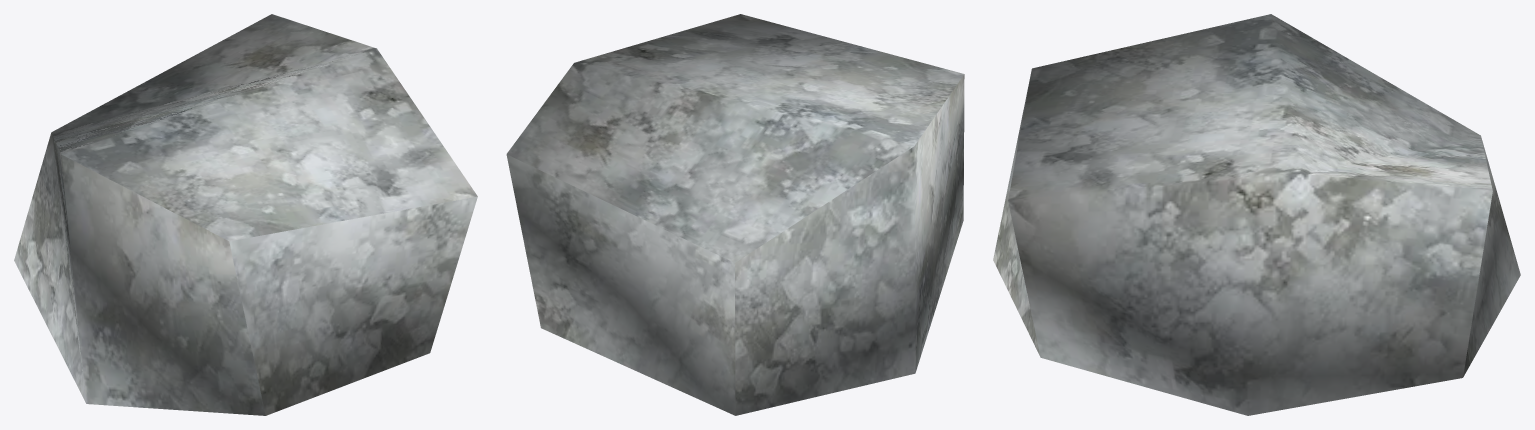
Rendered from KM_VOB_SALT_NUGGET_01.glb.
3 renders of one model, left to right at view 1: azimuth 30°, elevation 25°; view 2: azimuth 150°, elevation 25°; view 3: azimuth 270°, elevation 25°, orthographic. The views are drawn at different scales.
Parts seen in each view (by area): view 1: Mesh; view 2: Mesh; view 3: Mesh.
Boxes of the visible parts, left/top/right/bottom form: Mesh: left=14, top=14, right=477, bottom=415; Mesh: left=506, top=14, right=964, bottom=415; Mesh: left=993, top=14, right=1520, bottom=415.
Size of the model in its own units: 0.1315 by 0.0959 by 0.1629.
Materials: 1 (1 with a texture image).
